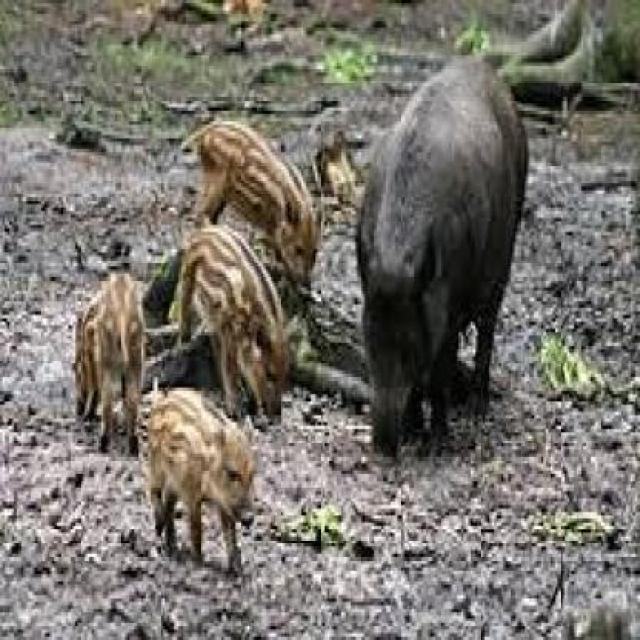wildboar: (344, 53, 531, 472), (183, 111, 331, 326), (163, 216, 295, 442), (142, 377, 264, 580), (71, 251, 149, 458)
